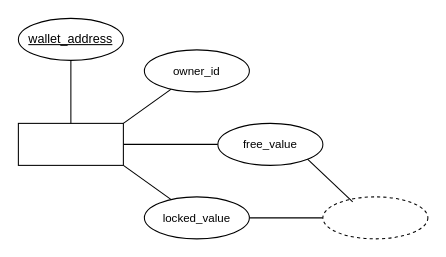
Image size: 446x257. Some labels were removed from this diagram. Here are the shapes that lost their labels. From the top down, the centre of each, then its label:
At point 70,143: "Wallet".
At point 375,217: "total_value".
